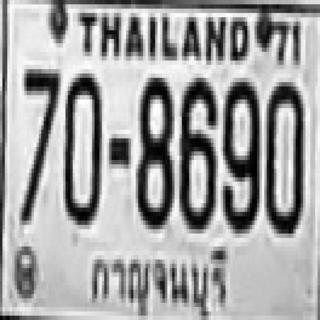N00: (264, 78, 303, 229), (63, 69, 99, 220)
N06: (178, 74, 214, 225)
N07: (19, 65, 58, 221), (22, 65, 58, 208)
N08: (136, 74, 172, 225)
N09: (221, 78, 257, 229)
P17: (86, 241, 230, 318)
